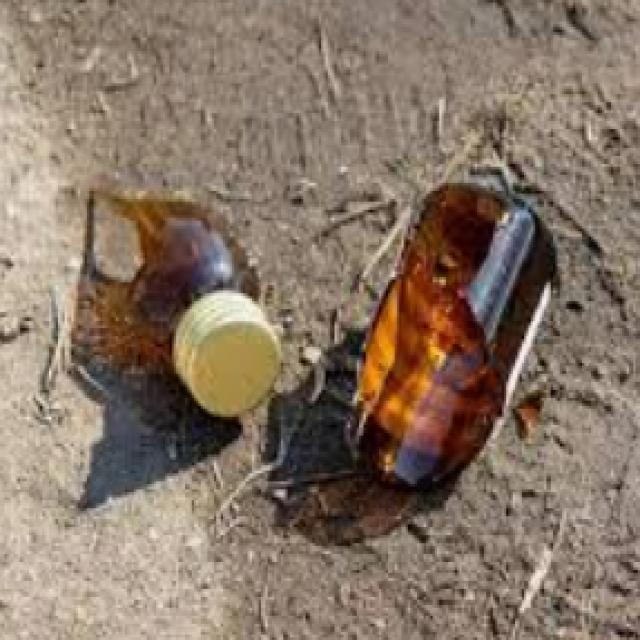PecahanKaca: (343, 172, 551, 492), (49, 180, 283, 433)
